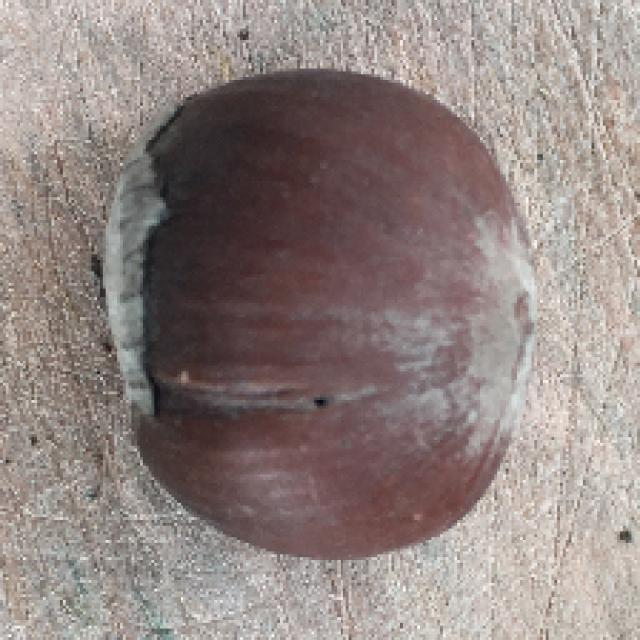damagedHazelnut: (94, 67, 546, 568)
